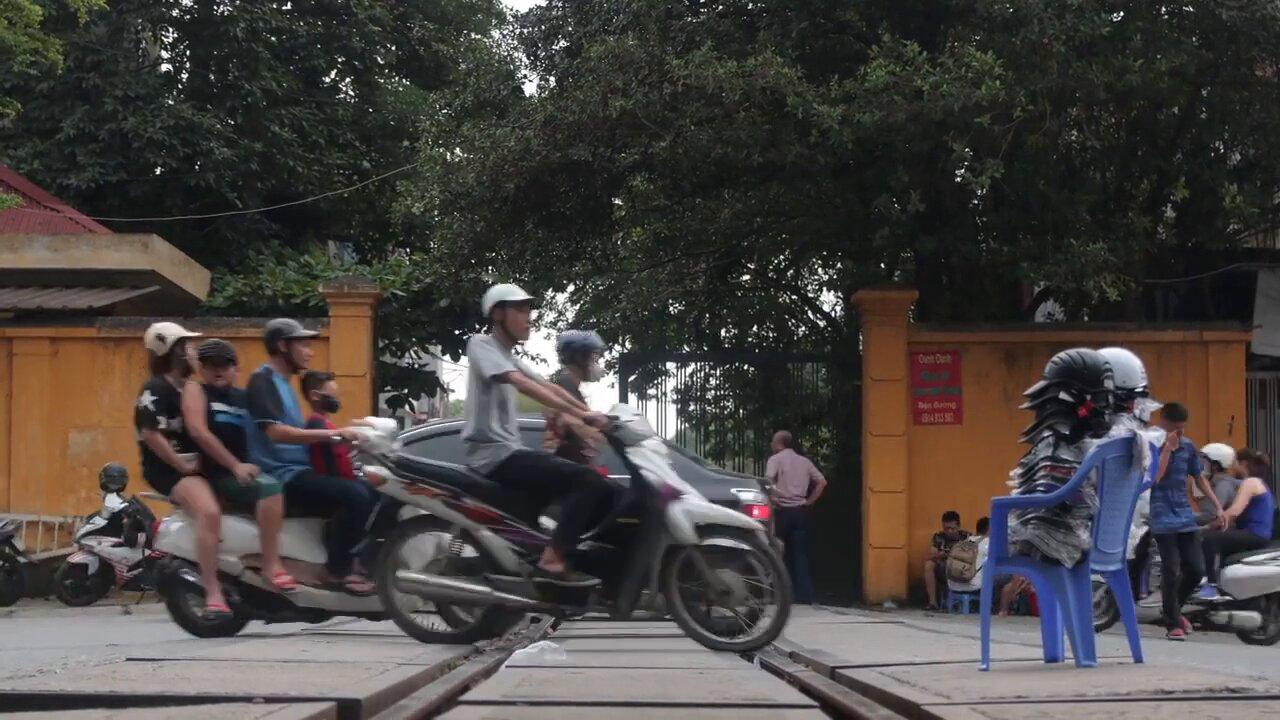driver: (351, 281, 794, 655), (132, 316, 473, 639), (1091, 443, 1280, 646)
helmet: (143, 319, 203, 377), (481, 281, 536, 344), (262, 316, 320, 375), (555, 328, 608, 384), (1200, 443, 1235, 482)
no-helmet: (198, 338, 240, 390), (299, 370, 342, 416), (1234, 448, 1270, 479)
